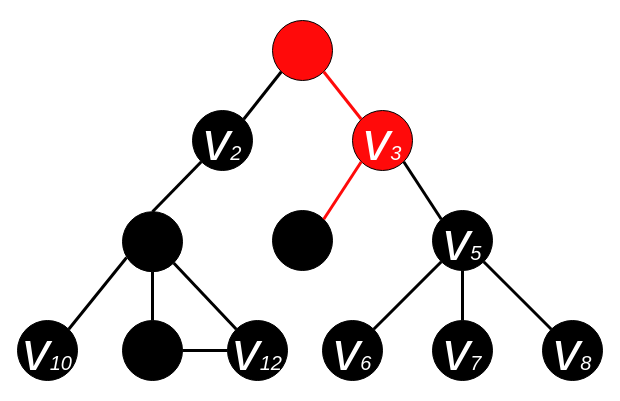
Image size: 620x401. Some labels were removed from this diagram. Each missing label, with the centre of its shape:
"v 1" goes at (x=302, y=50).
"v 11" goes at (x=152, y=350).
"v 4" goes at (x=302, y=240).
"v 9" goes at (x=152, y=241).
